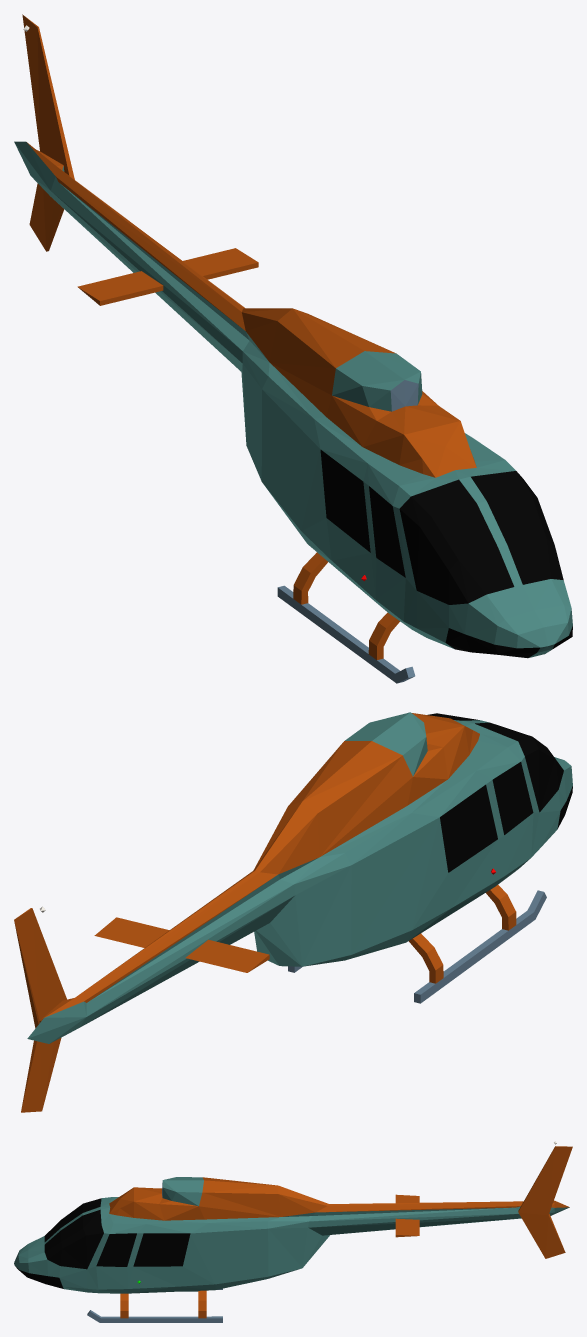
The model's file is JETRANG.glb.
3 views of the same model, one above another, from view 1: azimuth 30°, elevation 25°; view 2: azimuth 150°, elevation 25°; view 3: azimuth 270°, elevation 25° (orthographic). The views are drawn at different scales.
Parts seen in each view (by area): view 1: JETRANG | archived geometry; view 2: JETRANG | archived geometry; view 3: JETRANG | archived geometry.
Part boxes in pixels (left/top/right/bottom): JETRANG | archived geometry: left=14, top=14, right=572, bottom=683; JETRANG | archived geometry: left=14, top=712, right=572, bottom=1112; JETRANG | archived geometry: left=14, top=1146, right=572, bottom=1322.
Bounding box in the file's own units: 1.62 × 3.11 × 9.55.
